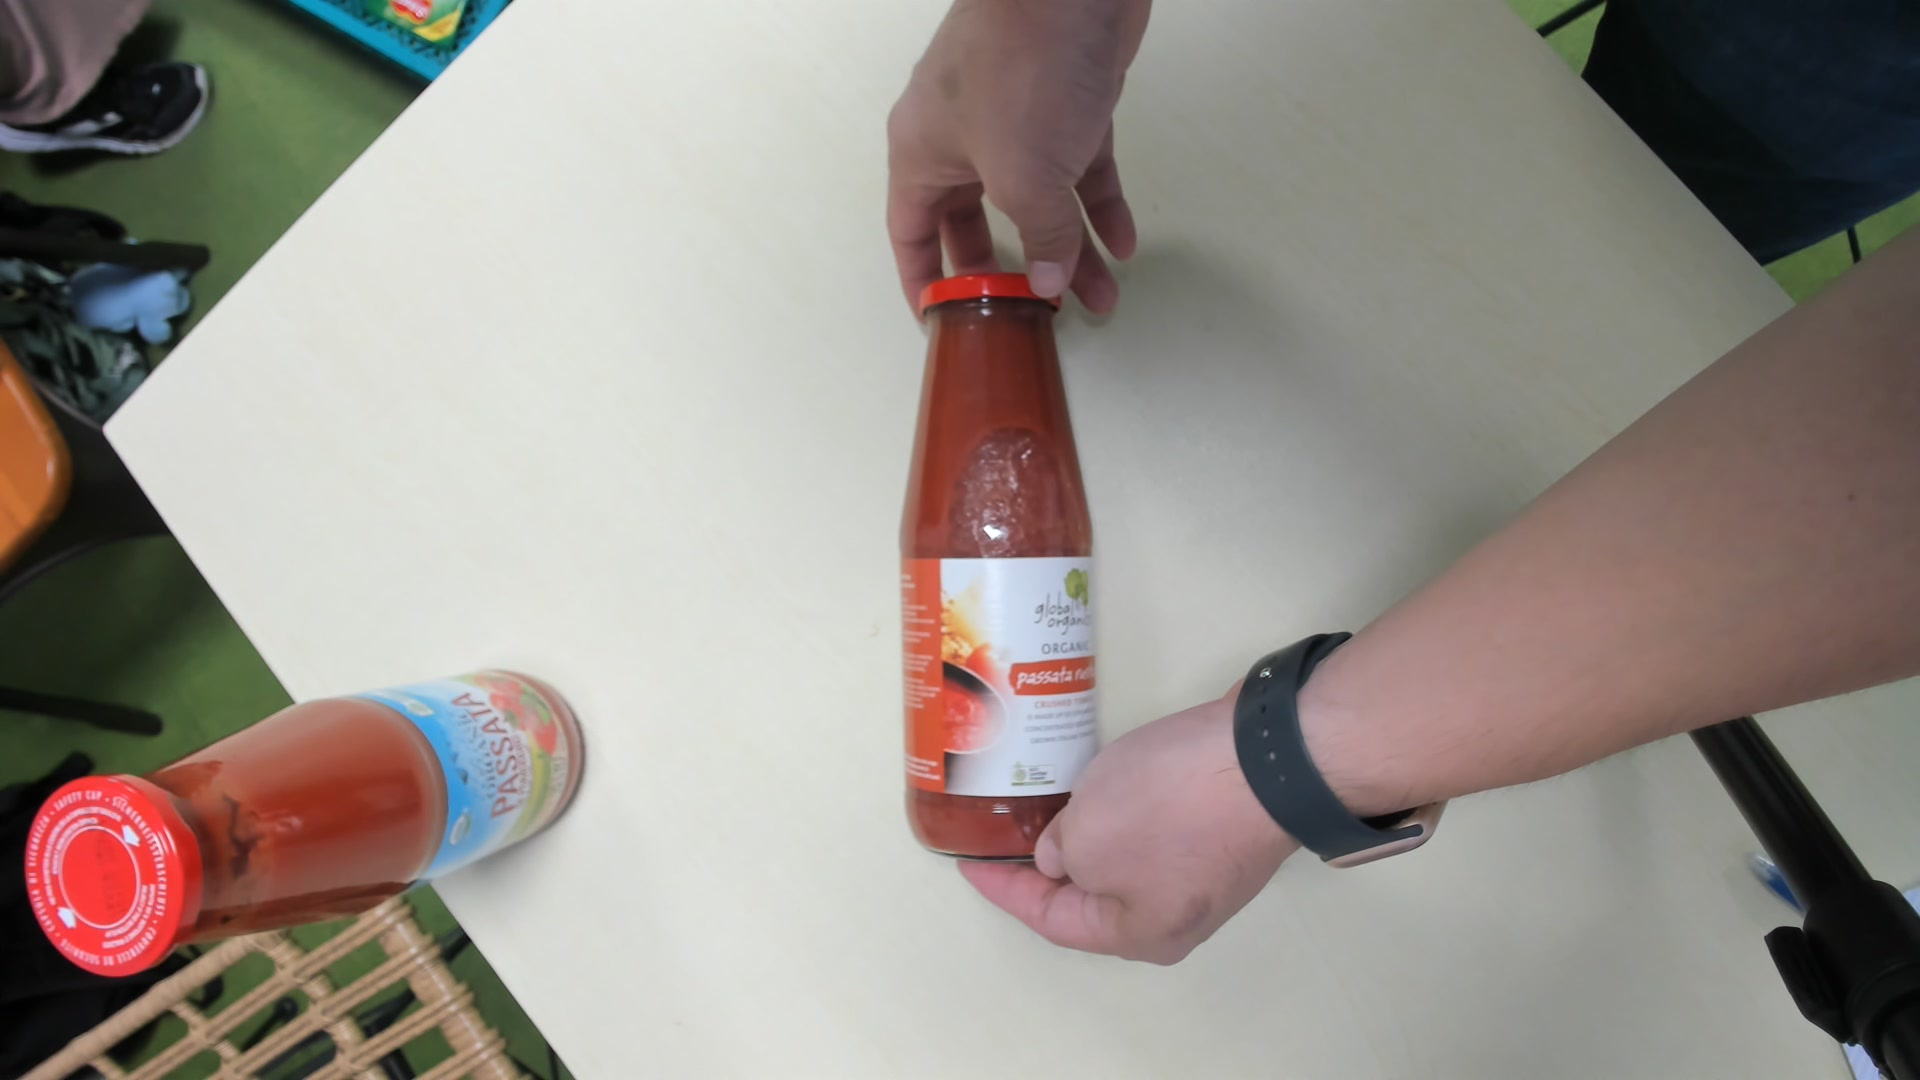PastaSauce_600-699g_NonHalal_NonHealthy: (899, 276, 1112, 855)
